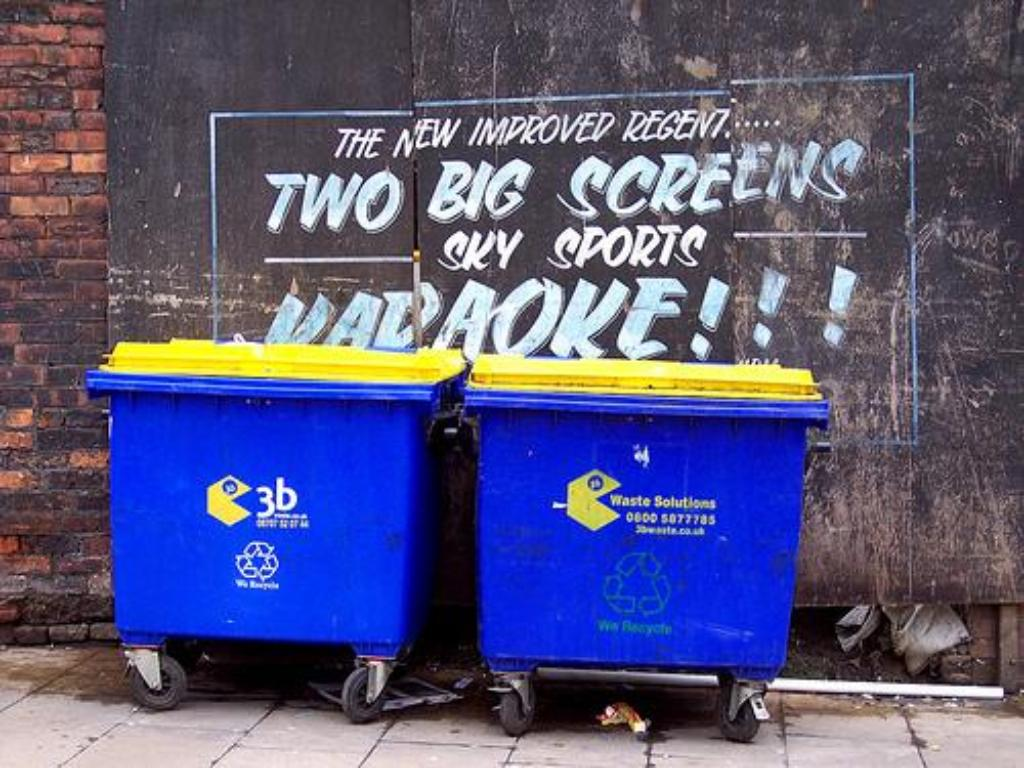dustbin: (89, 341, 837, 747), (89, 318, 474, 725), (463, 348, 835, 733)
